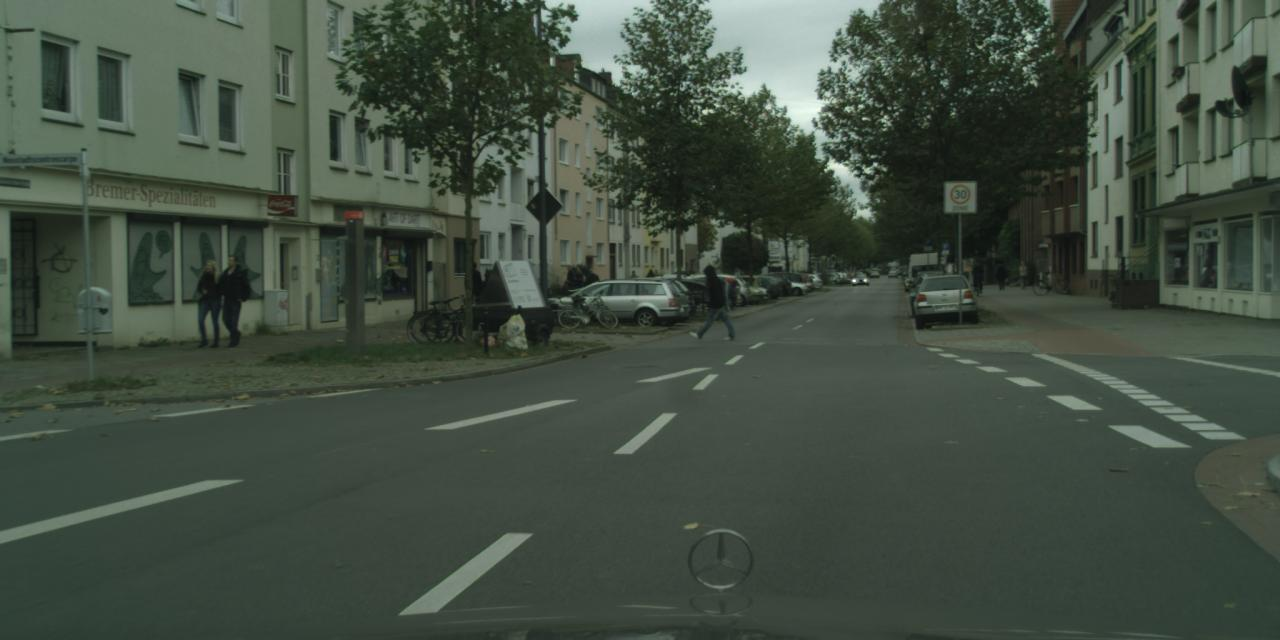ped: (214, 254, 251, 346), (192, 260, 228, 348), (695, 263, 726, 339), (462, 262, 484, 318), (562, 264, 580, 306), (570, 266, 588, 308), (582, 269, 600, 311), (628, 270, 640, 303), (972, 263, 984, 293), (1017, 260, 1028, 290), (996, 263, 1006, 289)
